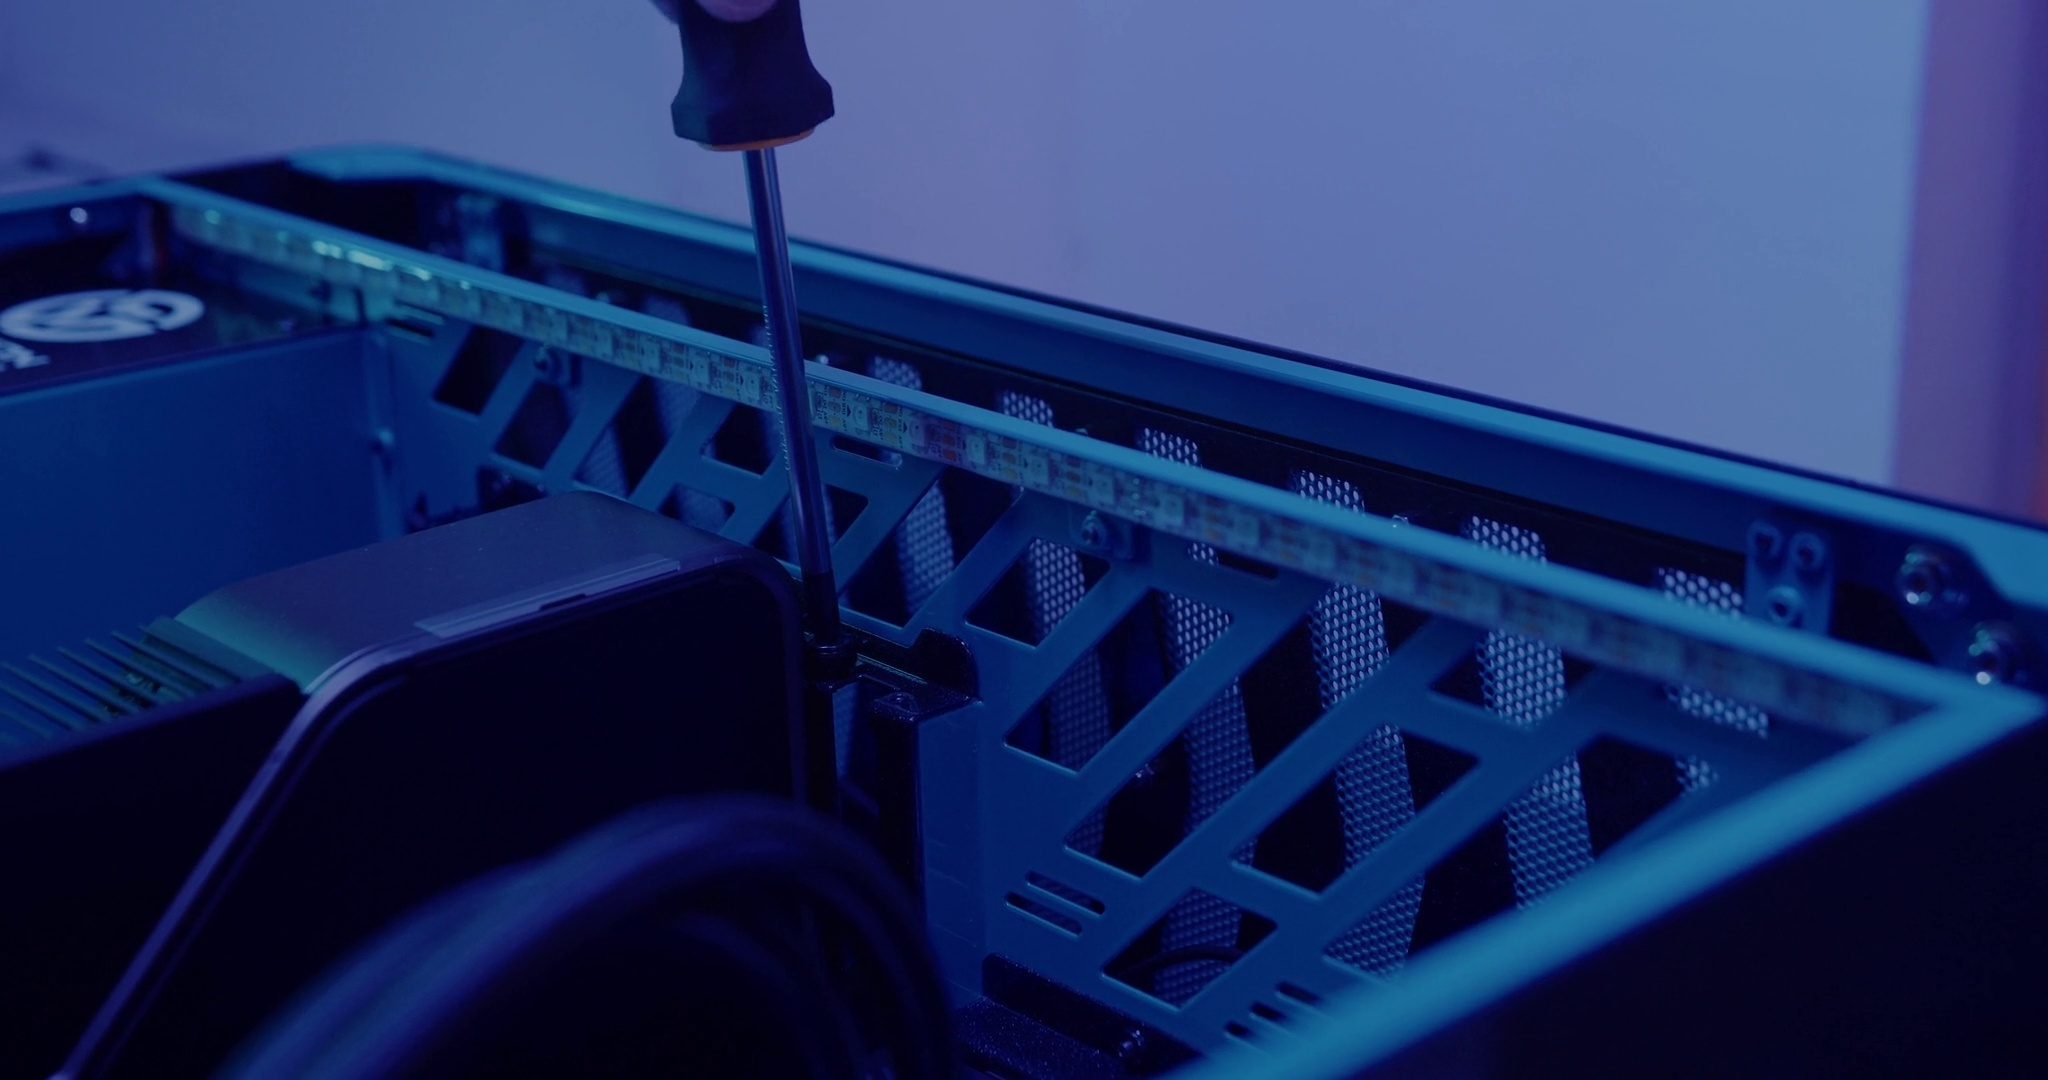screwdriver: (652, 1, 853, 636)
